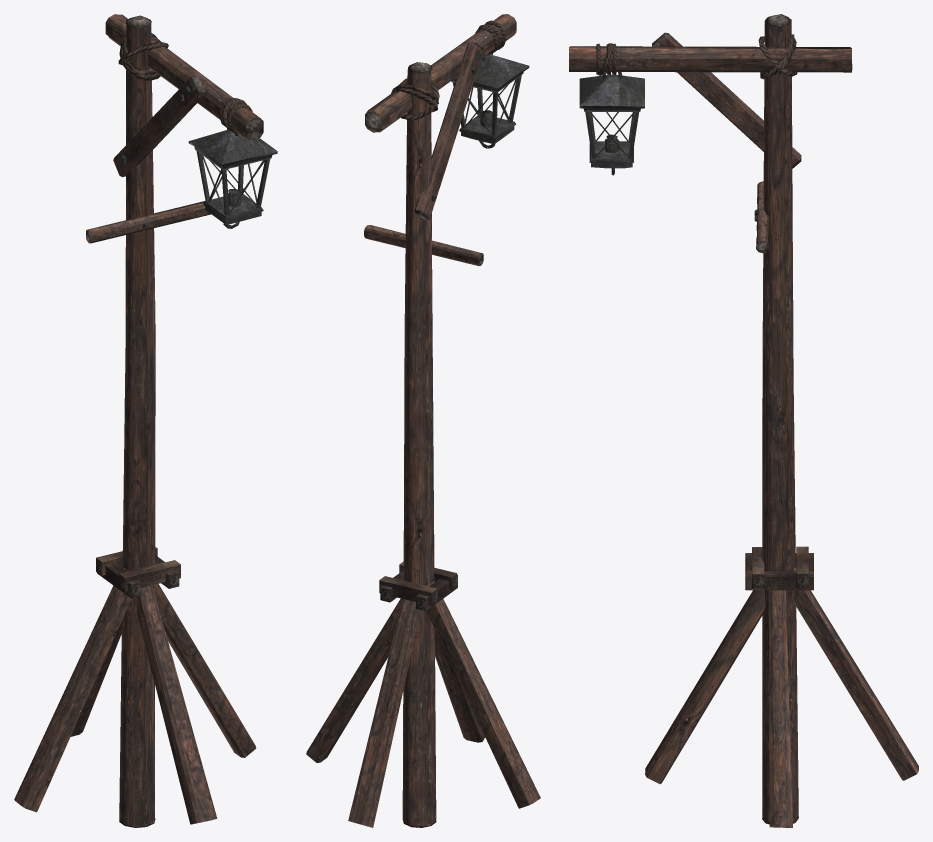
The model's file is Flashlight.fbx.
The picture shows the model from 3 angles, left to right: view 1: azimuth 30°, elevation 25°; view 2: azimuth 150°, elevation 25°; view 3: azimuth 270°, elevation 25°; orthographic projection. The views are drawn at different scales.
Parts seen in each view (by area): view 1: LightPole_LightPoleMAT_0; view 2: LightPole_LightPoleMAT_0; view 3: LightPole_LightPoleMAT_0.
Boxes of the visible parts, x1,y1,x2,y2 form: LightPole_LightPoleMAT_0: (14,14,277,827); LightPole_LightPoleMAT_0: (306,14,540,827); LightPole_LightPoleMAT_0: (569,14,918,827).
Size of the model in its own units: 66.54 by 215 by 85.04.
Materials: 1 (1 with a texture image).
